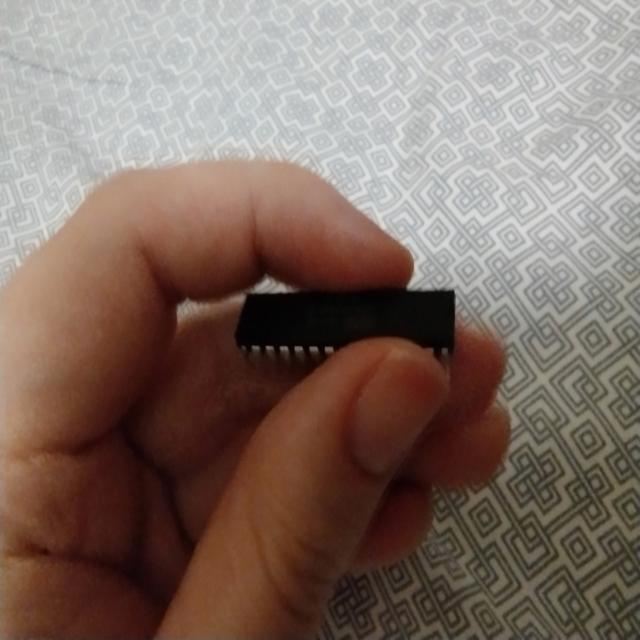atmega: (232, 283, 458, 371)
